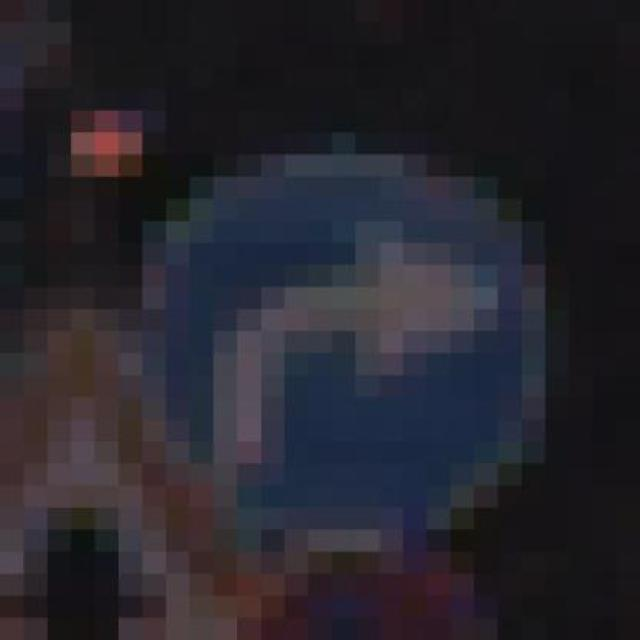Turn right ahead: (118, 88, 592, 574)
